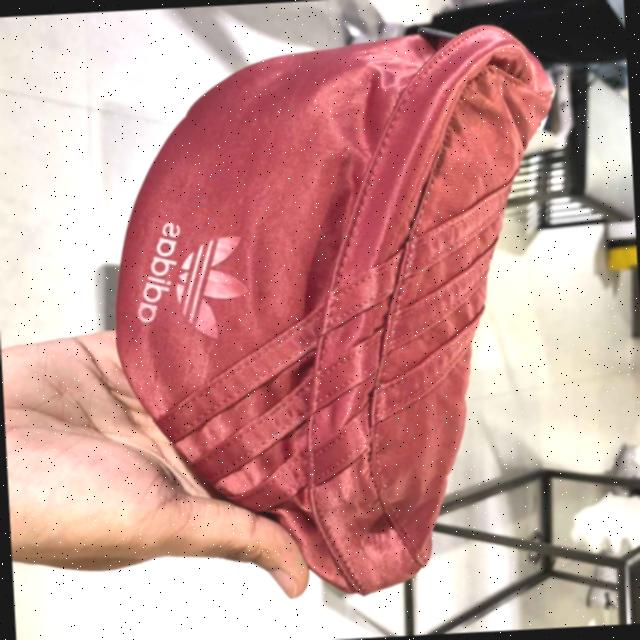handbag: (100, 21, 582, 608)
